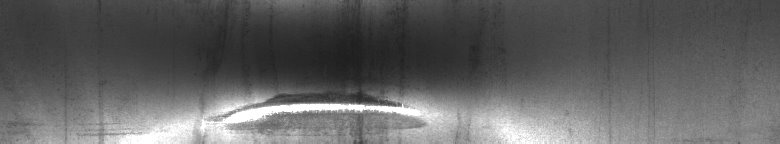ke: (204, 84, 428, 136)
